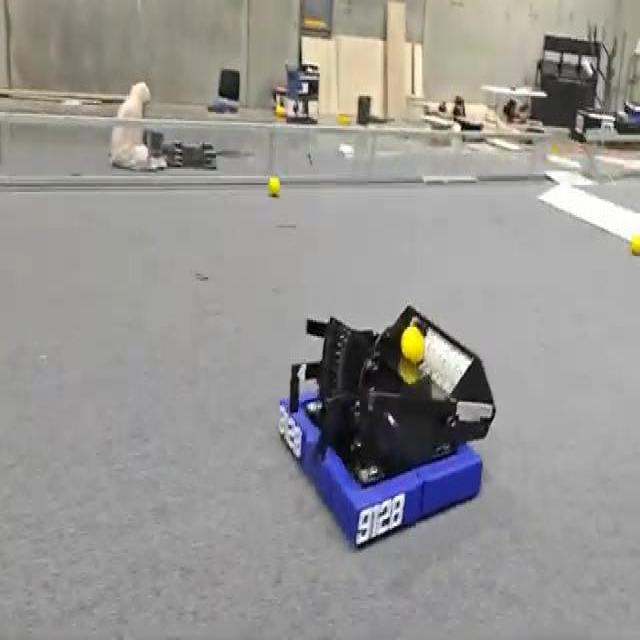Fuel: (400, 325, 424, 364), (400, 325, 424, 363), (628, 234, 640, 256), (268, 176, 279, 196), (630, 235, 639, 254)
